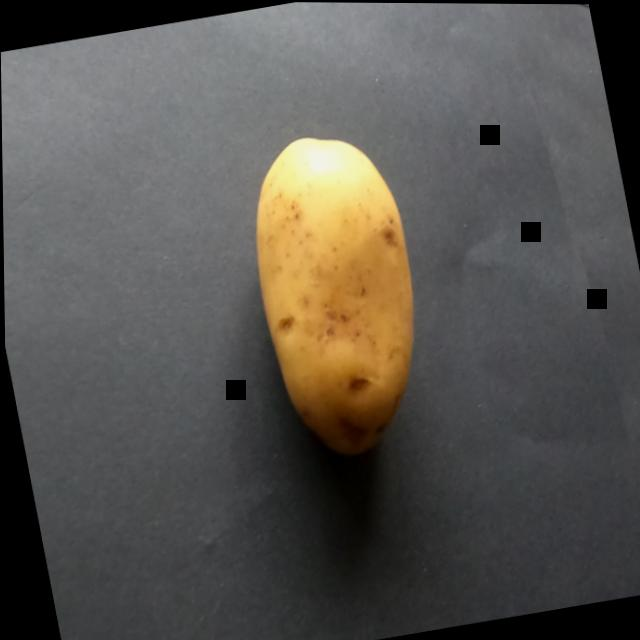Potato: (211, 94, 469, 500)
